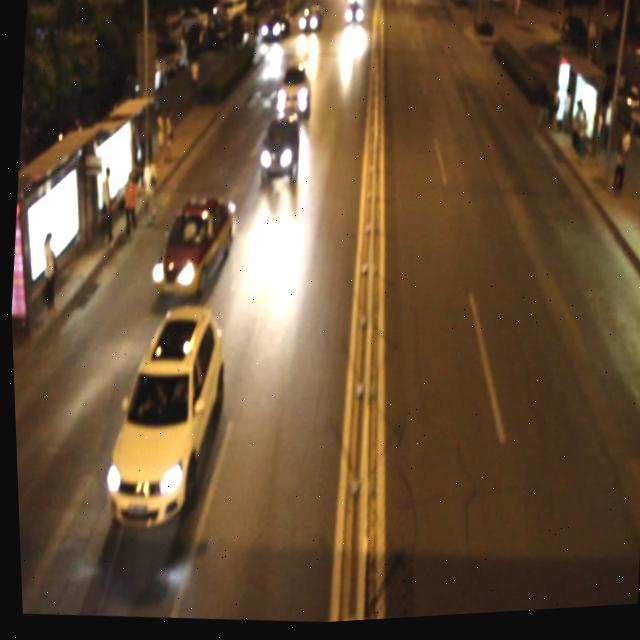car: (95, 301, 231, 531), (144, 188, 238, 305), (254, 114, 301, 185), (273, 64, 312, 120), (296, 6, 322, 39)
